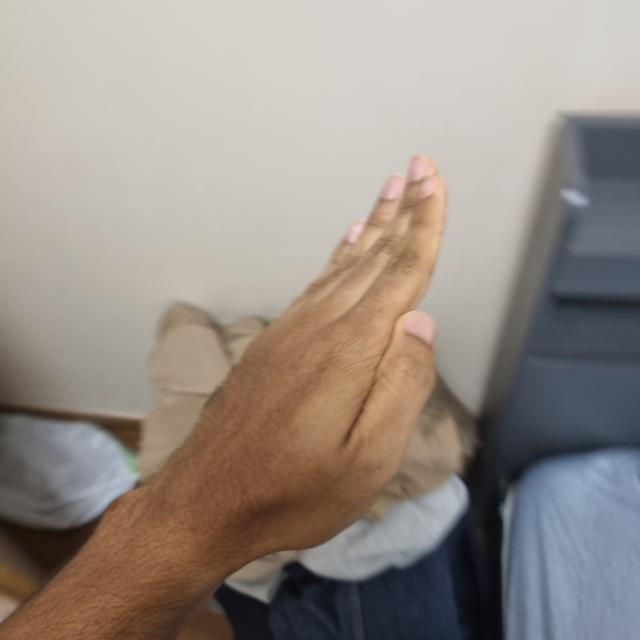Paper: (188, 308, 443, 550)
